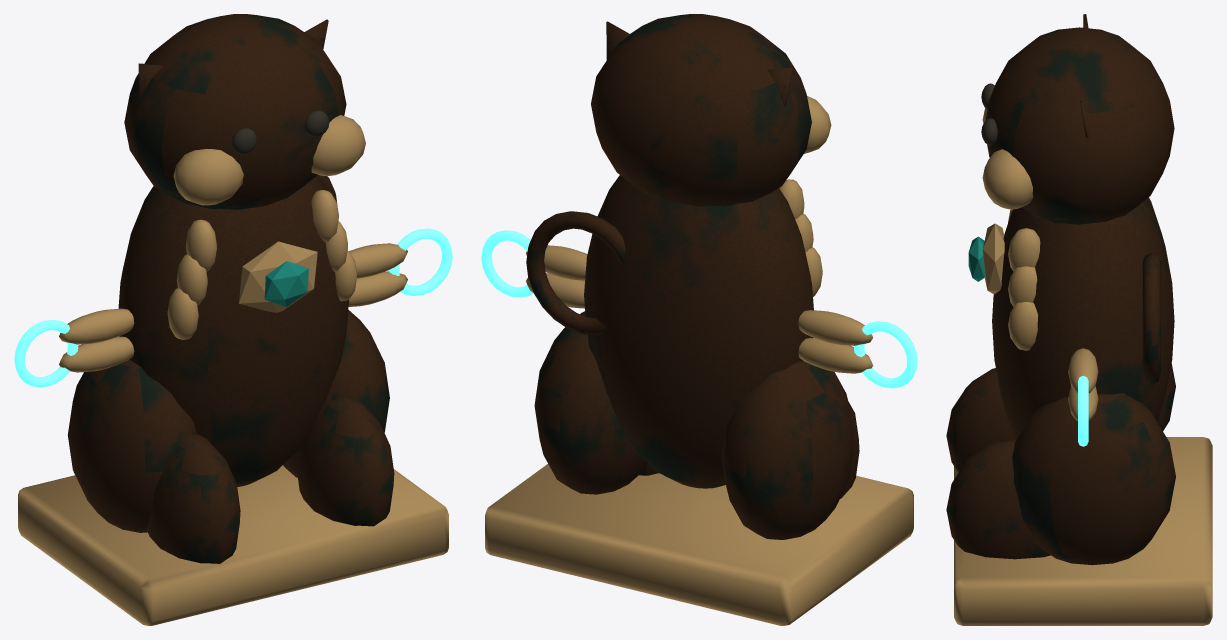
File: guardian_statue.fbx
The picture shows the model from 3 angles, left to right: view 1: azimuth 30°, elevation 25°; view 2: azimuth 150°, elevation 25°; view 3: azimuth 270°, elevation 25°; orthographic projection.
Visible parts, largest first — view 1: Reviewed_guardian_statue_Body.003, TH10_Guardian_Handle.006, TH10_Guardian_Handle.005; view 2: Reviewed_guardian_statue_Body.003, TH10_Guardian_Handle.006, TH10_Guardian_Handle.005; view 3: Reviewed_guardian_statue_Body.003, TH10_Guardian_Handle.005.
Boxes of the visible parts, left/top/right/bottom form: Reviewed_guardian_statue_Body.003: left=18, top=14, right=448, bottom=625; TH10_Guardian_Handle.006: left=14, top=320, right=78, bottom=387; TH10_Guardian_Handle.005: left=389, top=228, right=452, bottom=295; Reviewed_guardian_statue_Body.003: left=485, top=14, right=913, bottom=625; TH10_Guardian_Handle.006: left=854, top=321, right=917, bottom=388; TH10_Guardian_Handle.005: left=481, top=230, right=533, bottom=297; Reviewed_guardian_statue_Body.003: left=946, top=14, right=1212, bottom=625; TH10_Guardian_Handle.005: left=1078, top=375, right=1088, bottom=446.
Size of the model in its own units: 0.654 by 0.75 by 0.35.
Materials: 5 (1 with a texture image).
